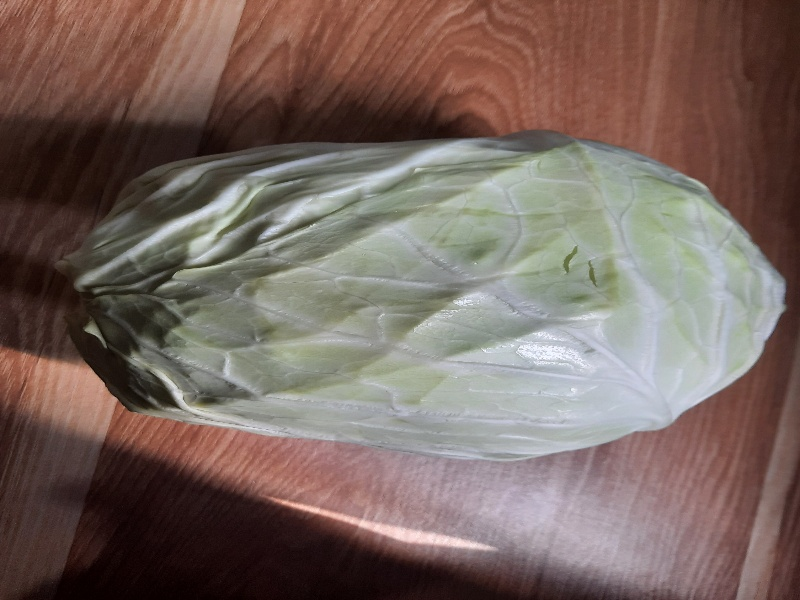vege: (74, 134, 790, 467)
